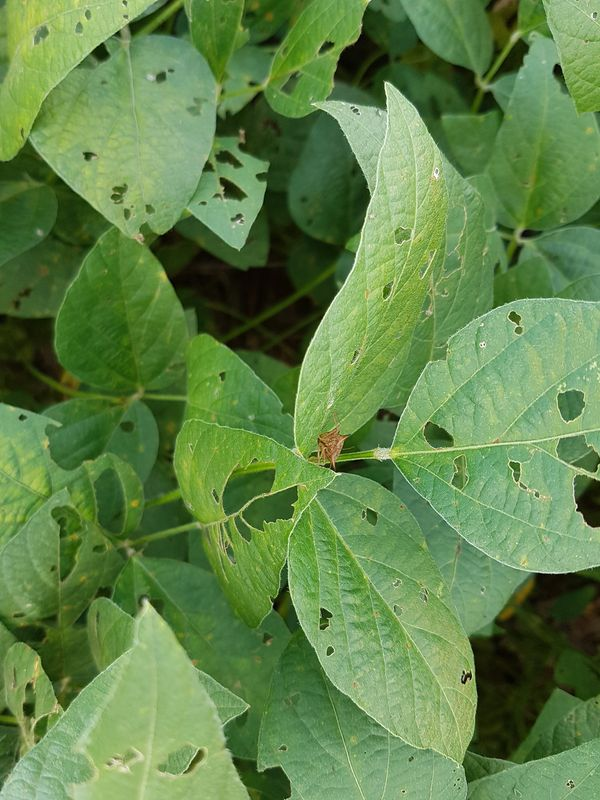Euschistus_heros_adulto: (303, 414, 357, 478)
